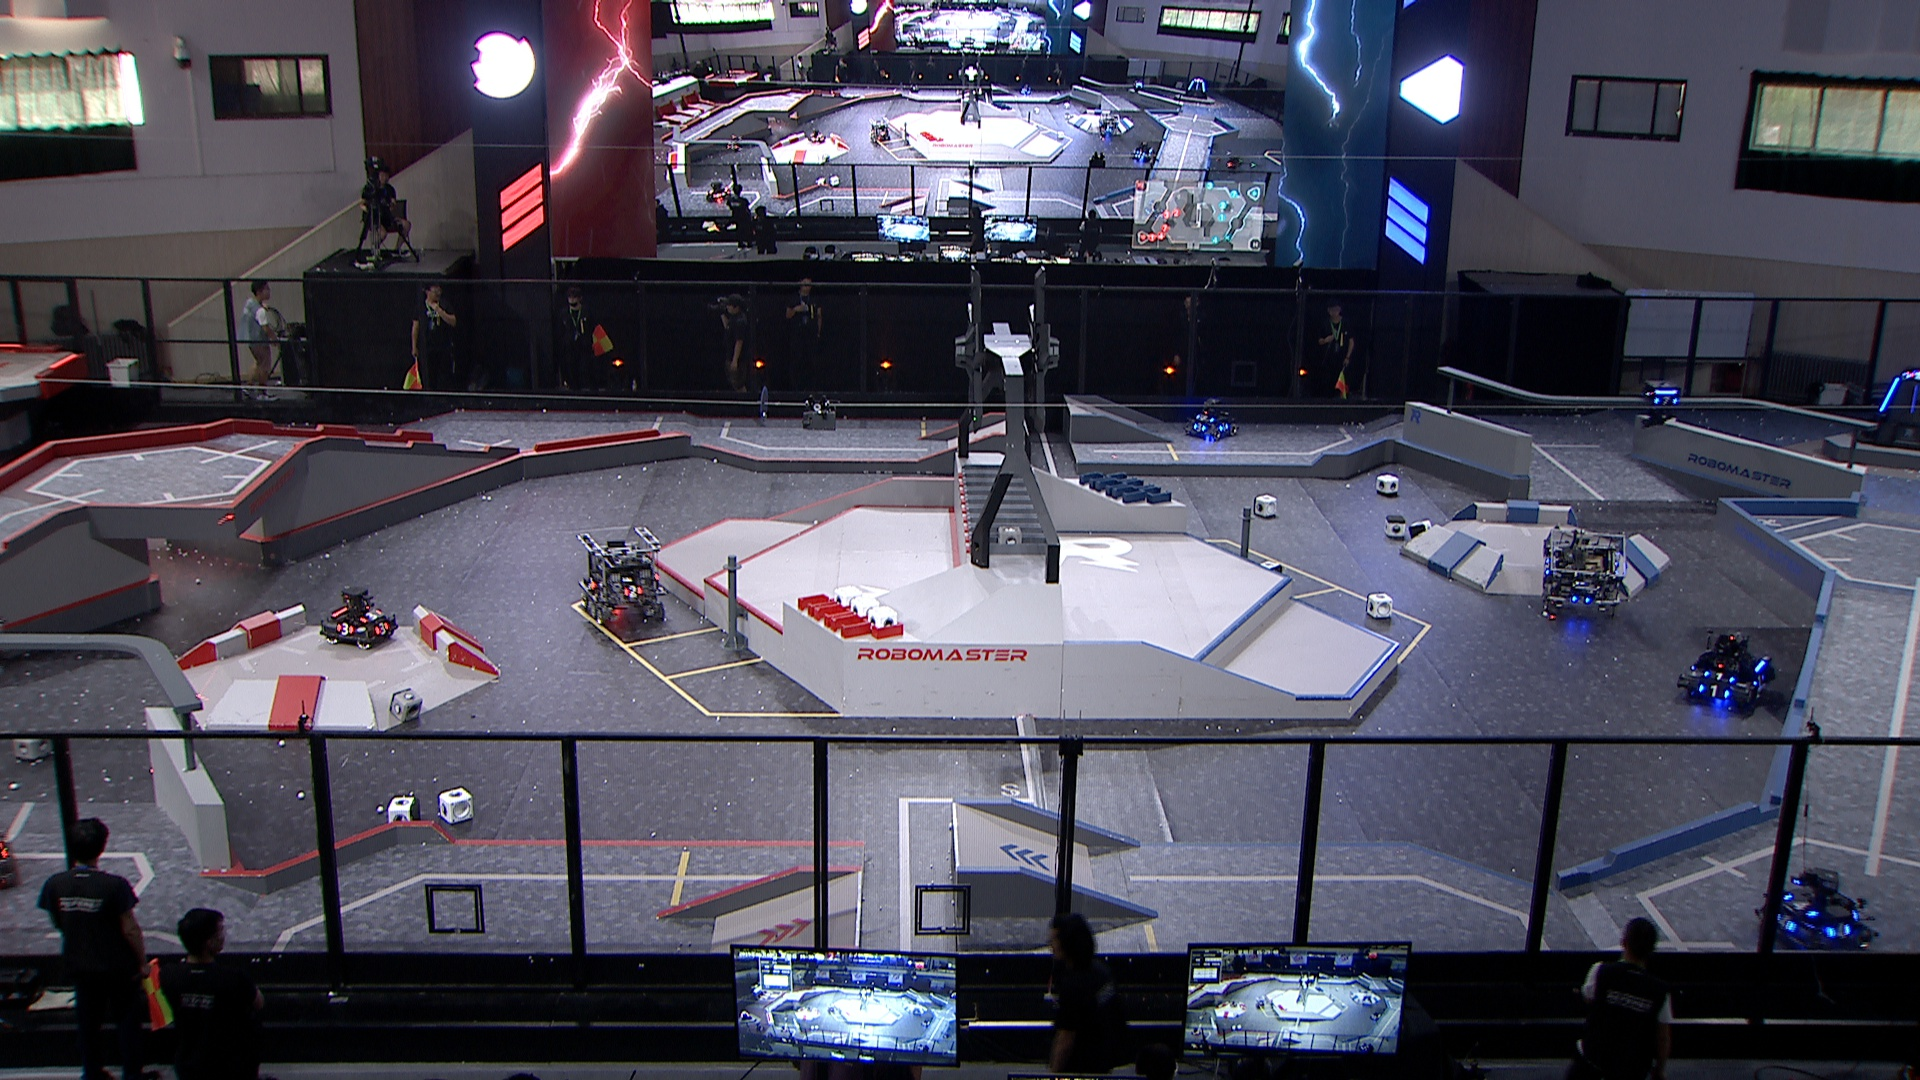armor: (1878, 376, 1902, 413), (1785, 891, 1820, 916), (1822, 922, 1851, 942), (1702, 669, 1735, 684), (1695, 684, 1731, 698), (357, 608, 384, 622), (1908, 381, 1920, 413), (1774, 913, 1795, 930), (334, 622, 356, 638), (1750, 671, 1768, 690), (622, 583, 644, 599), (1652, 396, 1680, 406), (372, 621, 392, 636), (1571, 595, 1590, 607), (1195, 414, 1216, 423), (1192, 422, 1207, 433), (585, 576, 596, 589), (1218, 422, 1230, 433)
base: (1854, 367, 1920, 455)
car: (1754, 862, 1876, 949), (574, 527, 669, 628), (1536, 524, 1629, 622), (1676, 626, 1780, 711), (315, 585, 400, 650), (1182, 400, 1240, 439)
ignore: (1182, 78, 1211, 104), (703, 181, 731, 202), (868, 121, 891, 145), (1097, 113, 1121, 136), (1134, 142, 1154, 160), (1904, 371, 1920, 380)
watcher: (1638, 377, 1685, 427)
